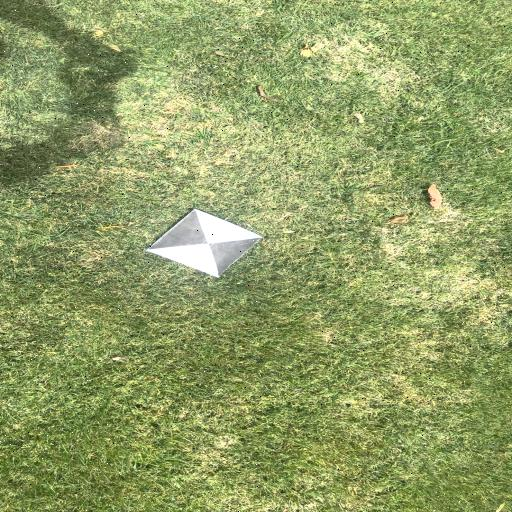target: (146, 209, 261, 278)
